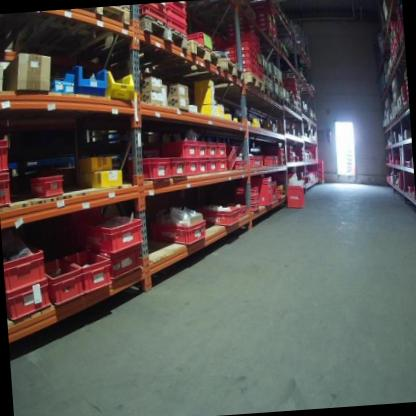pallet: (0, 7, 134, 62), (70, 12, 189, 60), (118, 37, 227, 88), (180, 57, 247, 92), (226, 70, 266, 97), (250, 81, 276, 102), (267, 89, 285, 111), (257, 64, 274, 83), (280, 96, 292, 111), (273, 74, 284, 88), (402, 101, 409, 115)
small_load_carrier: (80, 211, 147, 254), (66, 245, 116, 296), (3, 245, 50, 296), (45, 255, 84, 310), (147, 214, 209, 247), (7, 281, 51, 326), (121, 154, 172, 184), (113, 243, 148, 284), (239, 174, 276, 212), (197, 202, 244, 229), (20, 171, 62, 201), (156, 137, 199, 161), (133, 5, 169, 30), (283, 183, 307, 211), (0, 174, 18, 211), (188, 32, 213, 54), (226, 144, 243, 172), (166, 17, 189, 37), (166, 153, 184, 178), (182, 158, 201, 179), (167, 7, 188, 26), (233, 185, 261, 198), (244, 154, 265, 171), (0, 137, 9, 174), (197, 158, 211, 181), (169, 2, 189, 16), (214, 139, 228, 158), (262, 154, 279, 169), (234, 196, 261, 205), (232, 42, 254, 53), (233, 57, 253, 68), (234, 158, 248, 173), (197, 140, 209, 155), (207, 139, 216, 159), (147, 4, 166, 13), (217, 161, 230, 174), (209, 158, 218, 173), (232, 52, 254, 58), (270, 147, 286, 154), (241, 67, 254, 75), (254, 203, 262, 212), (278, 160, 286, 167), (275, 155, 286, 160)
